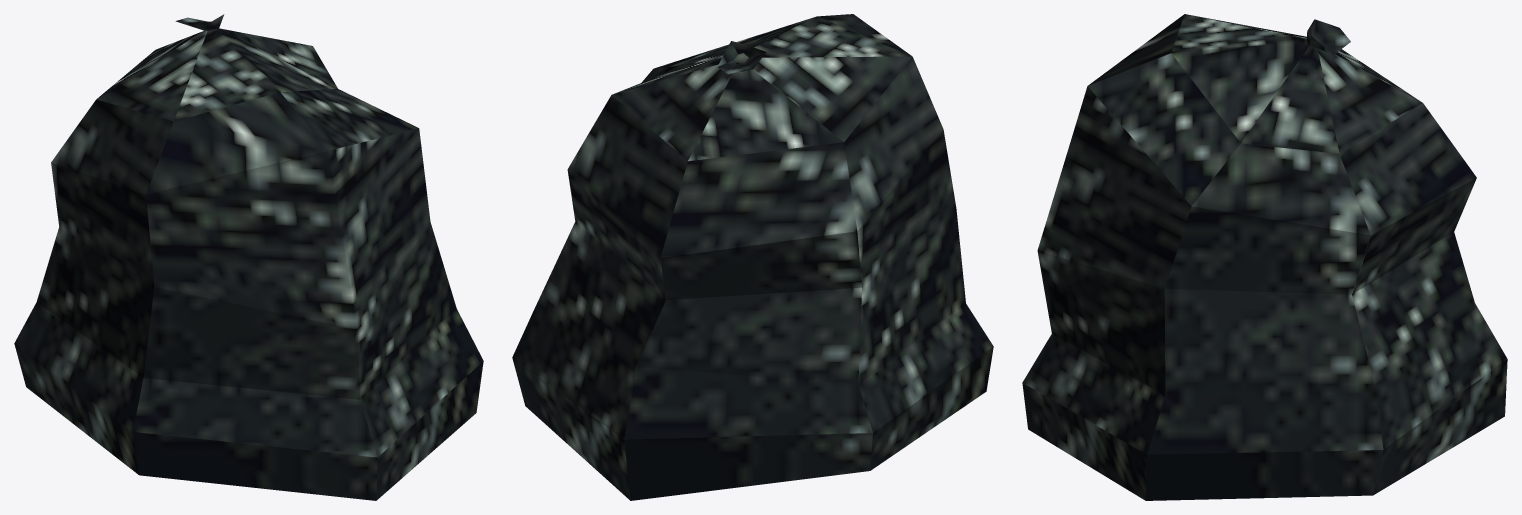
The model's file is basura1.fbx.
3 views of the same model, side by side, from view 1: azimuth 30°, elevation 25°; view 2: azimuth 150°, elevation 25°; view 3: azimuth 270°, elevation 25° (orthographic). The views are drawn at different scales.
Visible parts, largest first — view 1: trashbag_1; view 2: trashbag_1; view 3: trashbag_1.
Boxes of the visible parts, x1,y1,x2,y2 form: trashbag_1: [14, 14, 483, 500]; trashbag_1: [512, 14, 993, 500]; trashbag_1: [1022, 14, 1507, 500].
Bounding box in the file's own units: 77.09 × 80.94 × 91.71.
